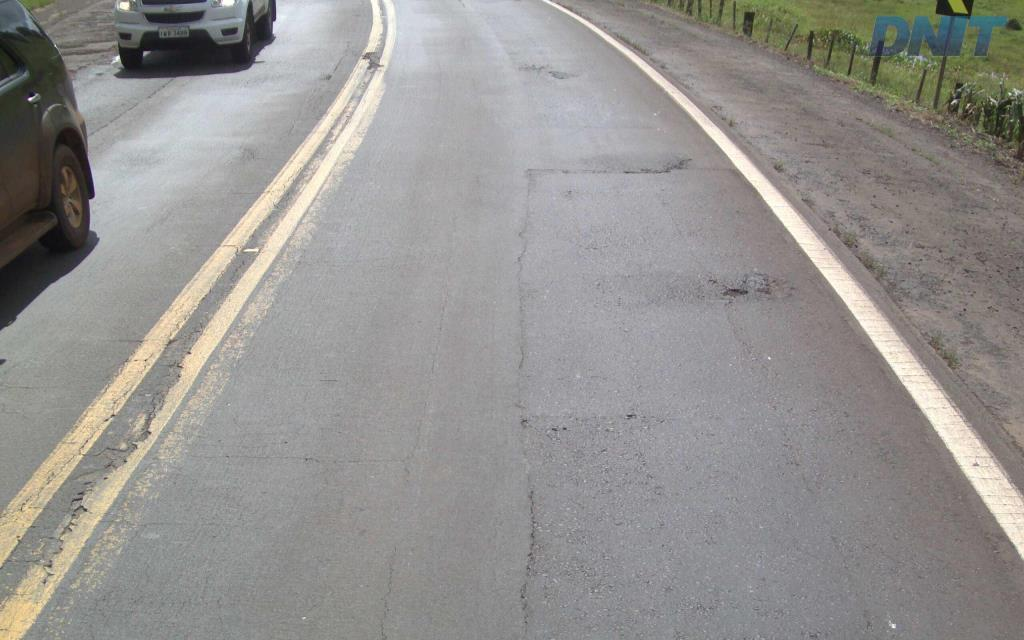crack: (754, 272, 788, 300)
pothole: (716, 285, 754, 297)
